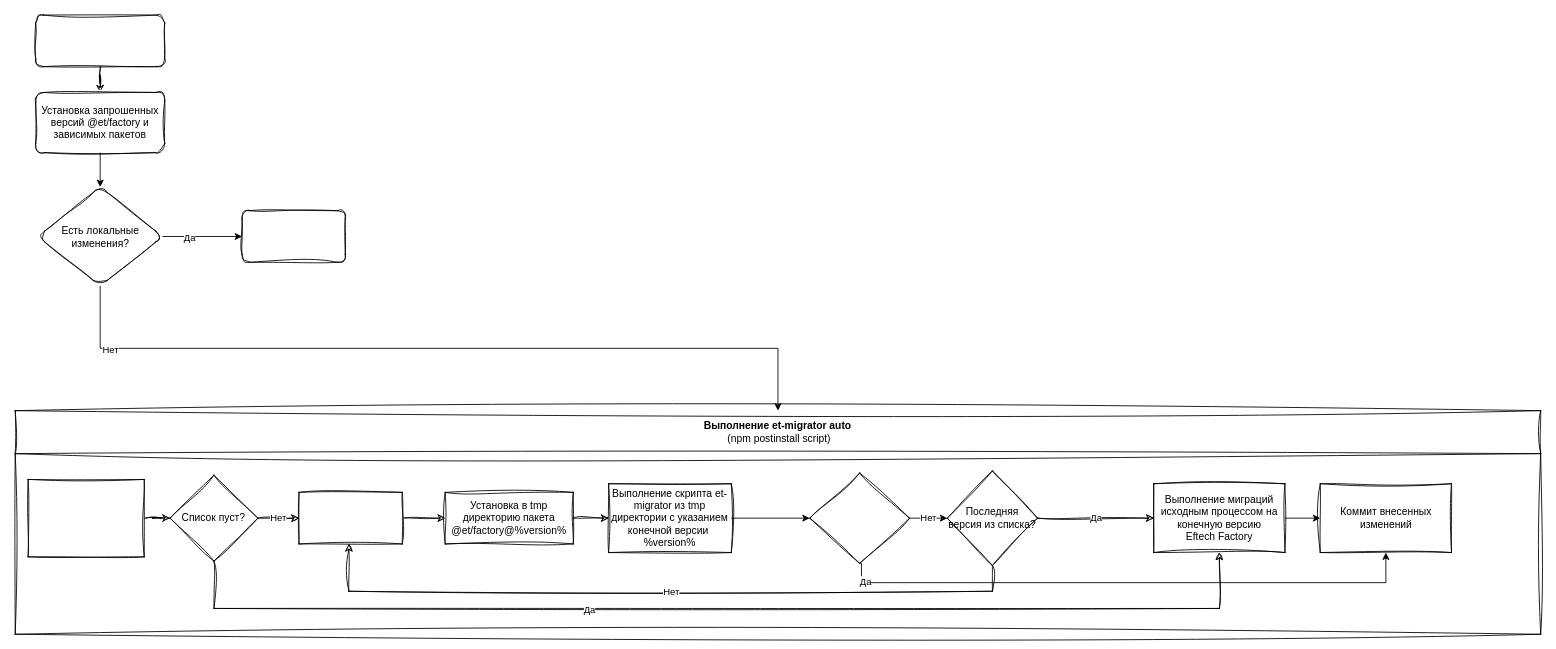
Some shapes in this 1556 by 649 pixel diagram are drawn without their labels. Here are the shapes that lost their labels. From the top down, the centre of each, then its label:
At [100,40]: "Запуск обновления пользователем".
At [293,236]: "Прерывание процесса обновления".
At [85,518]: "Определение списка промежуточных версий по списку имеющихся миграций".
At [350,517]: "Создание tmp директории".
At [859,517]: "Завершено с ошибкой?".
